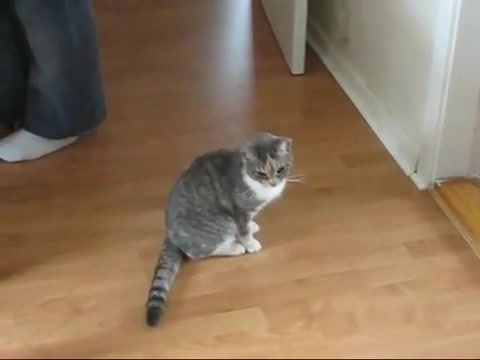cat: (145, 131, 294, 327)
